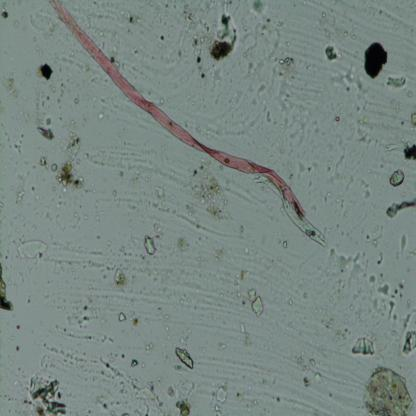Background material: (188, 156, 230, 223), (363, 363, 412, 416), (368, 267, 406, 321), (27, 375, 70, 416), (210, 12, 244, 60), (328, 247, 368, 280), (57, 156, 88, 198), (59, 115, 84, 161), (132, 384, 166, 416), (329, 63, 366, 90), (95, 355, 128, 383), (364, 42, 388, 80), (15, 236, 50, 262), (385, 197, 416, 219), (0, 262, 13, 313), (146, 7, 172, 32), (184, 199, 202, 233), (151, 182, 170, 213), (335, 136, 352, 169), (175, 341, 193, 371), (277, 79, 293, 112), (290, 122, 310, 148), (353, 336, 376, 358), (275, 55, 296, 79), (182, 0, 197, 32), (13, 96, 30, 122), (32, 81, 42, 125), (86, 146, 108, 166), (400, 138, 416, 165), (2, 72, 18, 99), (402, 327, 416, 357), (326, 163, 348, 182), (248, 288, 263, 315), (65, 311, 92, 326), (174, 232, 190, 257), (86, 0, 106, 20), (386, 72, 406, 91), (243, 42, 260, 64), (111, 267, 127, 289), (325, 44, 343, 63), (189, 36, 209, 53), (211, 243, 228, 263), (142, 232, 157, 254), (214, 382, 229, 404), (35, 124, 54, 141), (66, 350, 86, 366), (39, 342, 63, 355), (260, 14, 274, 36), (388, 169, 405, 187), (175, 399, 192, 416), (154, 220, 170, 238), (127, 163, 139, 187), (37, 63, 53, 81), (321, 312, 333, 333), (210, 62, 222, 83), (296, 159, 306, 182), (15, 187, 27, 206), (43, 22, 57, 38), (126, 198, 142, 212), (54, 213, 66, 231), (402, 313, 414, 331), (319, 20, 331, 38), (185, 381, 197, 399), (256, 80, 270, 95), (126, 12, 141, 26), (361, 180, 372, 199), (1, 129, 11, 149), (372, 224, 381, 246), (241, 324, 250, 346), (276, 235, 290, 249), (179, 329, 193, 343), (334, 326, 348, 340), (164, 385, 178, 399), (252, 0, 266, 14), (79, 332, 94, 345), (401, 232, 409, 256), (143, 341, 156, 355), (244, 62, 254, 80), (60, 55, 75, 67), (234, 385, 244, 403), (12, 138, 22, 156), (96, 394, 107, 410), (194, 54, 204, 71), (296, 357, 308, 371), (305, 161, 319, 173), (16, 169, 28, 183), (88, 262, 104, 272), (160, 273, 172, 286), (272, 17, 284, 30), (110, 54, 121, 68), (381, 143, 398, 152), (299, 376, 311, 388), (85, 248, 103, 256), (264, 107, 272, 125), (212, 403, 223, 416), (358, 128, 368, 142), (1, 1, 8, 21), (264, 257, 274, 271), (38, 154, 48, 168), (313, 371, 323, 384), (129, 314, 139, 327), (322, 189, 332, 202), (409, 112, 416, 130), (58, 82, 64, 103), (48, 162, 59, 173), (115, 312, 127, 322), (105, 399, 120, 407), (376, 250, 384, 265), (122, 244, 131, 257), (204, 20, 213, 33), (324, 159, 332, 173), (337, 28, 348, 38), (48, 81, 58, 92), (221, 0, 231, 11), (98, 108, 107, 120), (218, 341, 228, 351), (357, 115, 368, 124), (404, 260, 411, 274), (242, 245, 250, 257), (233, 275, 241, 287), (100, 332, 108, 344), (152, 266, 158, 282), (329, 15, 336, 28), (62, 328, 72, 337), (130, 358, 139, 368), (89, 284, 94, 302), (43, 115, 52, 125), (158, 32, 166, 43), (91, 92, 98, 104), (36, 45, 43, 57), (176, 49, 184, 59), (72, 96, 80, 106), (339, 194, 344, 209), (319, 304, 328, 312), (18, 272, 24, 284), (307, 358, 316, 366), (99, 38, 105, 50), (173, 0, 179, 12), (106, 264, 115, 272), (44, 212, 52, 221), (172, 364, 181, 372), (73, 218, 80, 228), (352, 48, 359, 58), (163, 0, 170, 10), (251, 398, 261, 405), (264, 132, 270, 143), (84, 62, 90, 73), (338, 281, 344, 292), (96, 29, 104, 37), (118, 388, 126, 396), (99, 317, 107, 325), (111, 44, 118, 53), (118, 168, 125, 177), (308, 180, 314, 190), (239, 270, 245, 280), (234, 291, 242, 298), (146, 88, 154, 95), (158, 96, 165, 104), (13, 19, 19, 28), (320, 10, 326, 19), (31, 34, 37, 43), (57, 304, 66, 310), (0, 216, 6, 225), (26, 295, 32, 304), (112, 188, 118, 197), (366, 234, 371, 244), (329, 294, 334, 304), (230, 98, 236, 106), (195, 126, 201, 134), (200, 73, 206, 81), (332, 261, 338, 269), (91, 200, 99, 206), (406, 300, 412, 308), (24, 398, 32, 404), (304, 64, 310, 72), (351, 31, 356, 40), (165, 324, 170, 333), (57, 64, 62, 73), (134, 46, 138, 57), (50, 184, 56, 191), (190, 99, 196, 106), (409, 250, 416, 256), (345, 86, 351, 93), (109, 336, 115, 343), (56, 202, 63, 208), (335, 115, 340, 123), (378, 7, 382, 17), (90, 77, 98, 82), (132, 66, 140, 71), (45, 94, 50, 102), (406, 93, 414, 98), (356, 104, 361, 112), (396, 104, 400, 113), (314, 330, 320, 336), (166, 334, 172, 340), (287, 298, 293, 304), (44, 294, 50, 300), (121, 412, 130, 416), (12, 381, 18, 387), (280, 148, 285, 155), (275, 396, 280, 403), (204, 129, 211, 134), (296, 115, 301, 122), (121, 353, 126, 360), (333, 197, 340, 202), (110, 411, 117, 416), (140, 362, 145, 369), (14, 344, 19, 351), (0, 198, 3, 209), (101, 96, 105, 104), (300, 105, 304, 113), (287, 41, 292, 47), (102, 78, 108, 83), (303, 293, 308, 299), (31, 164, 36, 170), (165, 313, 170, 319), (127, 27, 132, 33), (262, 378, 267, 384), (34, 194, 39, 200), (328, 392, 333, 398), (268, 156, 274, 161), (198, 256, 203, 262), (10, 184, 15, 190), (99, 209, 105, 214), (394, 224, 398, 231), (71, 268, 75, 275), (149, 0, 153, 7), (380, 162, 384, 169), (92, 188, 96, 195), (284, 326, 289, 331), (201, 348, 206, 353), (45, 279, 50, 284), (17, 0, 22, 5), (55, 324, 60, 329), (95, 235, 100, 240), (198, 314, 202, 320), (241, 226, 244, 234), (314, 309, 318, 315), (340, 230, 344, 236), (83, 265, 87, 271), (400, 120, 404, 126), (186, 93, 190, 99), (82, 305, 86, 311), (180, 299, 184, 305), (11, 334, 15, 340), (106, 240, 110, 246), (131, 298, 134, 306), (73, 210, 77, 216), (336, 222, 339, 229), (362, 316, 366, 321), (241, 300, 246, 304), (16, 227, 20, 232), (42, 205, 46, 210), (67, 262, 72, 266), (166, 98, 170, 103), (83, 214, 87, 219), (96, 216, 100, 221), (158, 305, 161, 311), (402, 191, 405, 197), (8, 44, 11, 50), (31, 185, 34, 191), (4, 256, 8, 260), (397, 251, 399, 259), (56, 270, 60, 274), (356, 314, 360, 318), (344, 212, 348, 216), (16, 326, 20, 330), (186, 298, 190, 302), (281, 125, 284, 130), (15, 160, 18, 165), (89, 409, 92, 414), (347, 232, 349, 238), (351, 306, 354, 310), (0, 252, 2, 258), (21, 133, 24, 137), (105, 295, 108, 299), (23, 223, 25, 228), (40, 321, 42, 326), (359, 288, 361, 293), (290, 175, 293, 178), (60, 288, 62, 292), (13, 240, 15, 243), (61, 266, 62, 269)
Cotton: (49, 0, 326, 250)
